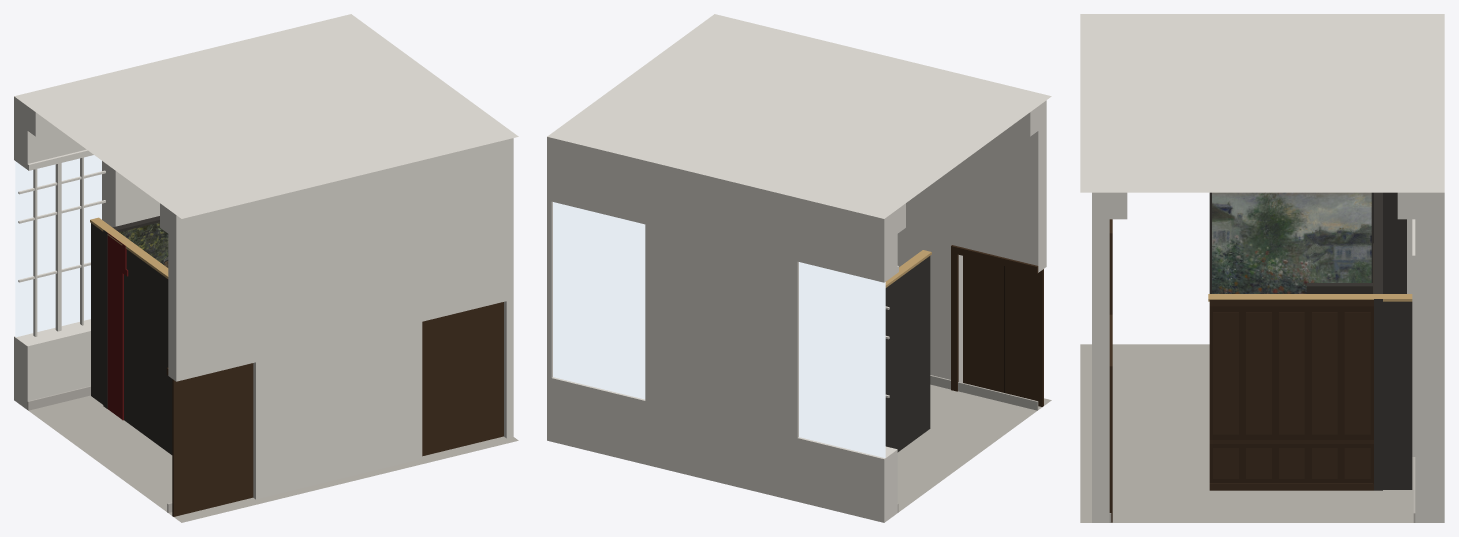
The picture shows the model from 3 angles, left to right: view 1: azimuth 30°, elevation 25°; view 2: azimuth 150°, elevation 25°; view 3: azimuth 270°, elevation 25°; orthographic projection. The views are drawn at different scales.
Visible parts, largest first — view 1: room; view 2: room; view 3: room.
Part boxes in pixels (x1=…): room: x1=14, y1=14, x2=518, y2=522; room: x1=547, y1=14, x2=1051, y2=522; room: x1=1080, y1=14, x2=1444, y2=522.
Size of the model in its own units: 7.2 by 6.2 by 6.2.
Materials: 59 (6 with a texture image).
